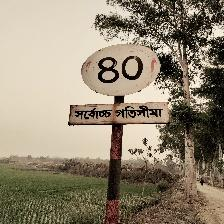Speed-limit: (68, 42, 169, 126)
